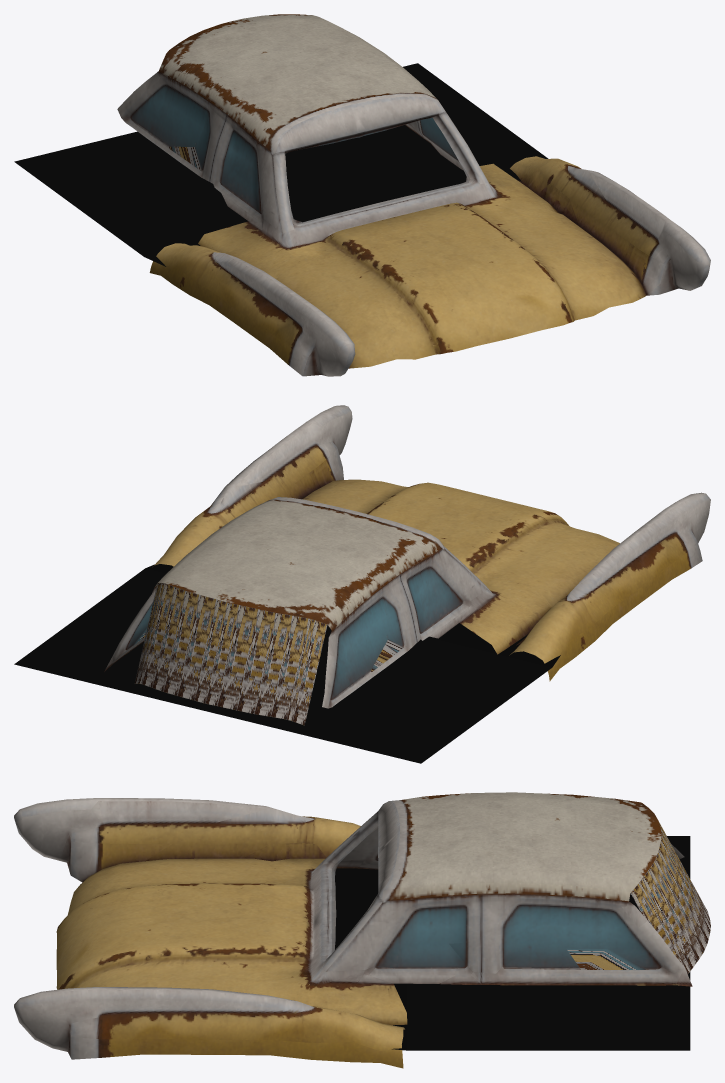
3 views of the same model, one above another, from view 1: azimuth 30°, elevation 25°; view 2: azimuth 150°, elevation 25°; view 3: azimuth 270°, elevation 25° (orthographic). The views are drawn at different scales.
Visible parts, largest first — view 1: polySurface1, pPlane1, pPlane2; view 2: polySurface1, pPlane1; view 3: polySurface1, pPlane1, pPlane2.
Part boxes in pixels (x1,y1,x2,y2): polySurface1: (117,14,710,376); pPlane1: (14,63,548,266); pPlane2: (286,118,469,223); polySurface1: (104,405,710,725); pPlane1: (14,564,560,763); polySurface1: (14,792,710,1068); pPlane1: (335,836,690,1050); pPlane2: (332,829,377,952).
Size of the model in its own units: 552 by 164 by 751.
Materials: 3 (1 with a texture image).
